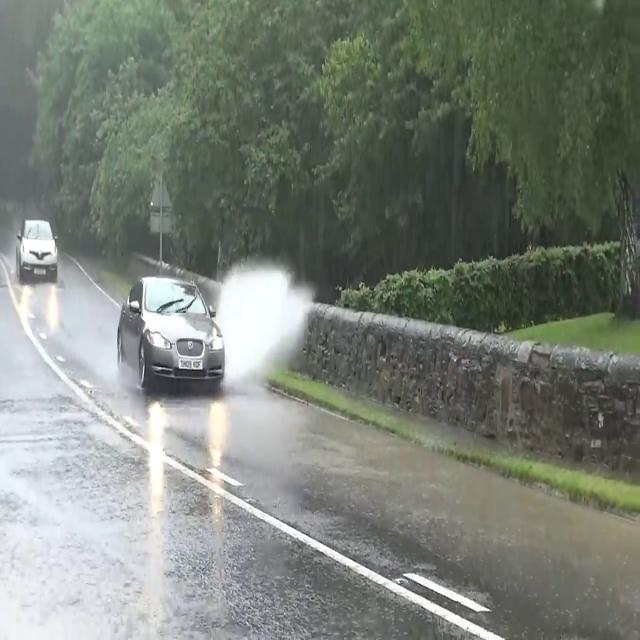license-plate-annotation: (178, 356, 204, 374)
